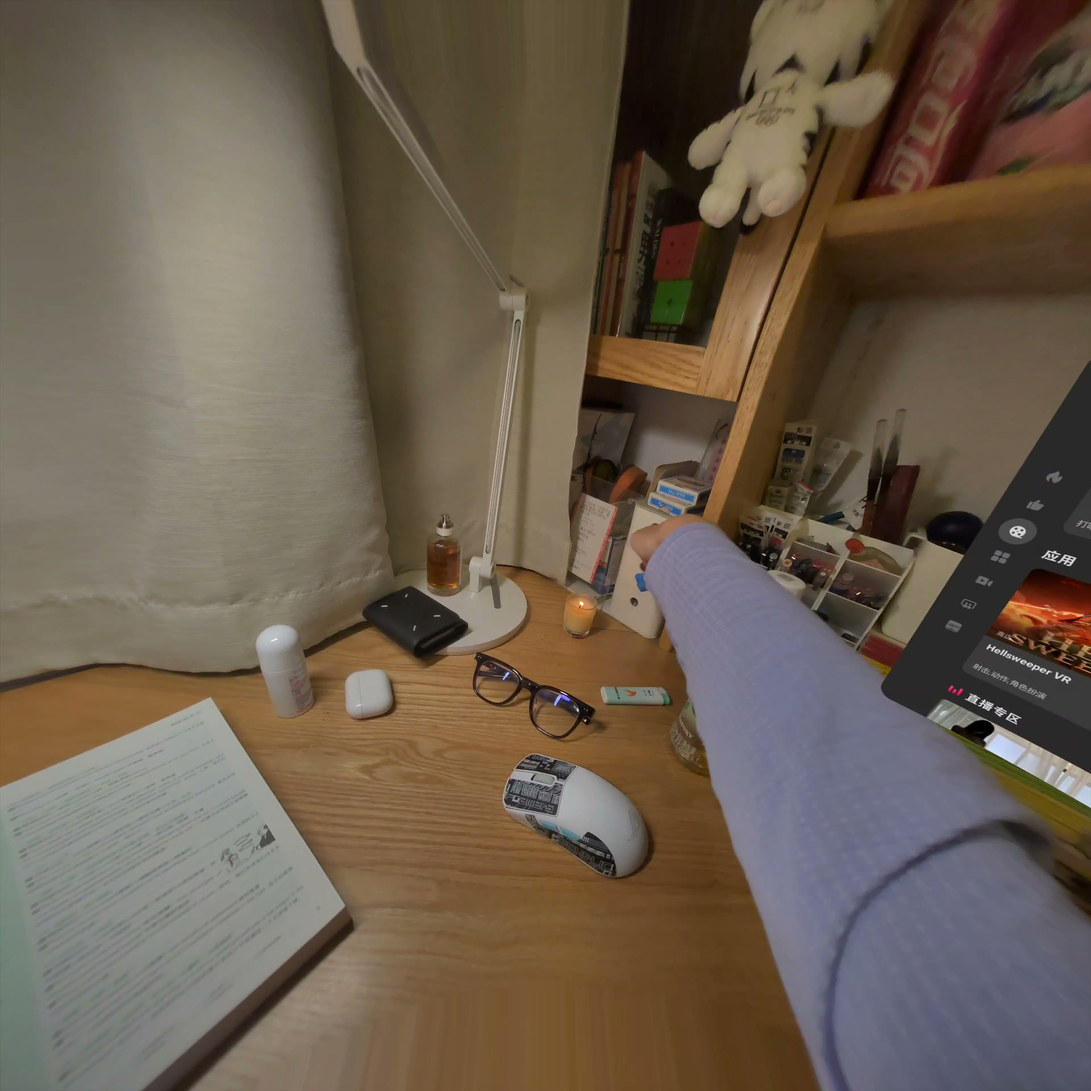lighter: (635, 572, 647, 593)
